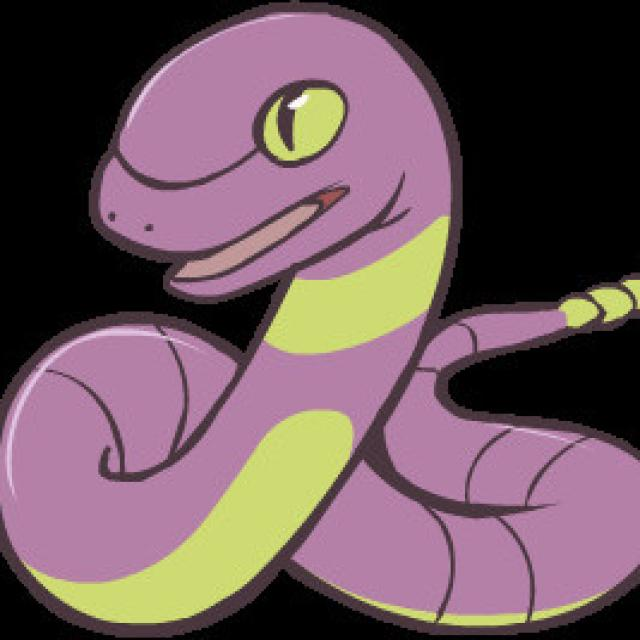Ekans: (16, 21, 569, 558)
